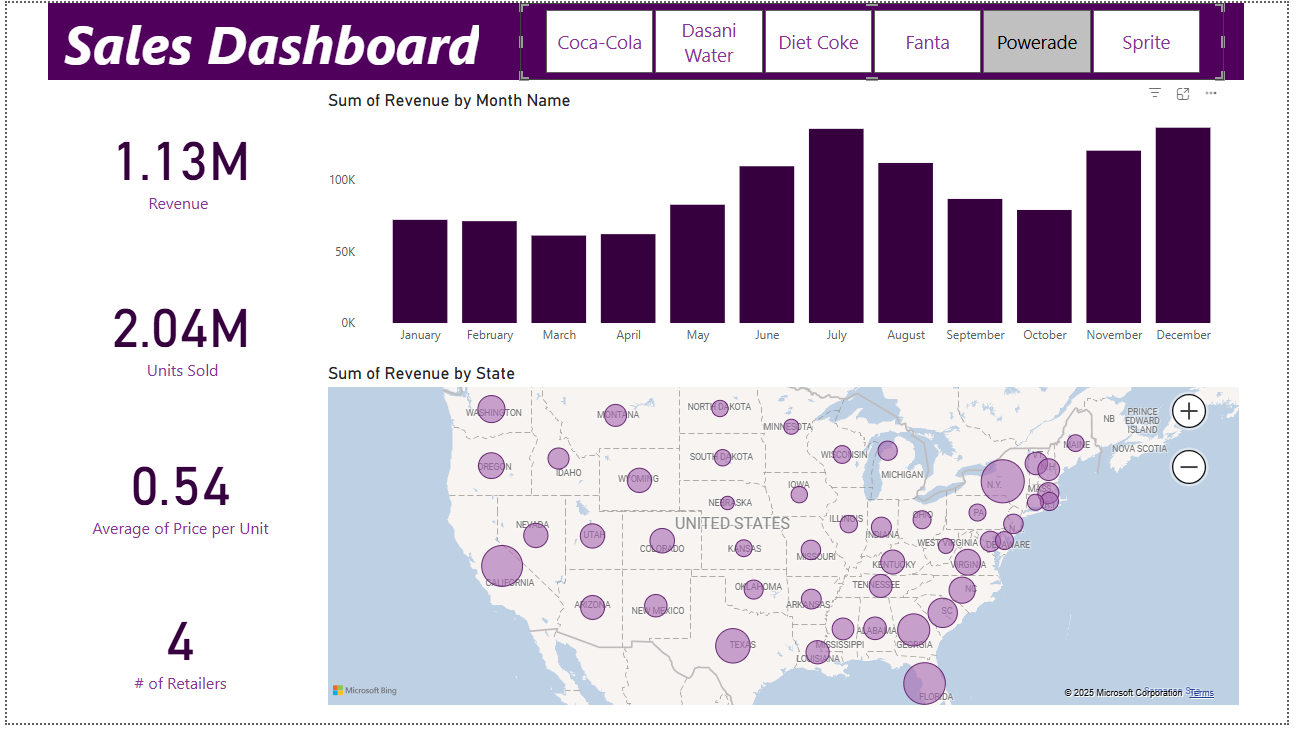

The dashboard page shown, as its layout file describes it:
{"tool":"powerbi","page":{"name":"Page 1","canvas":[1280,720],"ordinal":0},"visuals":[{"type":"shape","box":[41,0,1196,77],"z":0},{"type":"card","fields":{"Values":["Sum(Data.Revenue )"]},"box":[31,87,285,148],"z":1},{"type":"card","fields":{"Values":["Avg(Data.Price per Unit)"]},"box":[31,420.3,285,132],"z":2},{"type":"card","fields":{"Values":["Sum(Data.Units Sold)"]},"box":[31,257.7,285,140],"z":3},{"type":"columnChart","fields":{"Y":["Sum(Data.Revenue )"],"Category":["Data.Month Name"]},"box":[316,87,921,263],"z":4},{"type":"map","fields":{"Category":["Data.State"],"Size":["Sum(Data.Revenue )"]},"box":[316,360,921,347],"z":5},{"type":"slicer","fields":{"Values":["Data.Beverage Brand"]},"box":[513,0,704,77],"z":6},{"type":"card","fields":{"Values":["Count(Data.Retailer)"]},"box":[31,575,285,132],"z":7}]}

Visuals, with their boxes in screenshot pixels (x1, y1, x2, y2), scaled from the page's 1280x720 canvas onto the 1301x736 screenshot:
shape: crop(42, 0, 1257, 79)
card - Sum(Data.Revenue ): crop(32, 89, 321, 240)
card - Avg(Data.Price per Unit): crop(32, 430, 321, 565)
card - Sum(Data.Units Sold): crop(32, 263, 321, 407)
columnChart - Sum(Data.Revenue ) x Data.Month Name: crop(321, 89, 1257, 358)
map - Data.State x Sum(Data.Revenue ): crop(321, 368, 1257, 723)
slicer - Data.Beverage Brand: crop(521, 0, 1237, 79)
card - Count(Data.Retailer): crop(32, 588, 321, 723)
